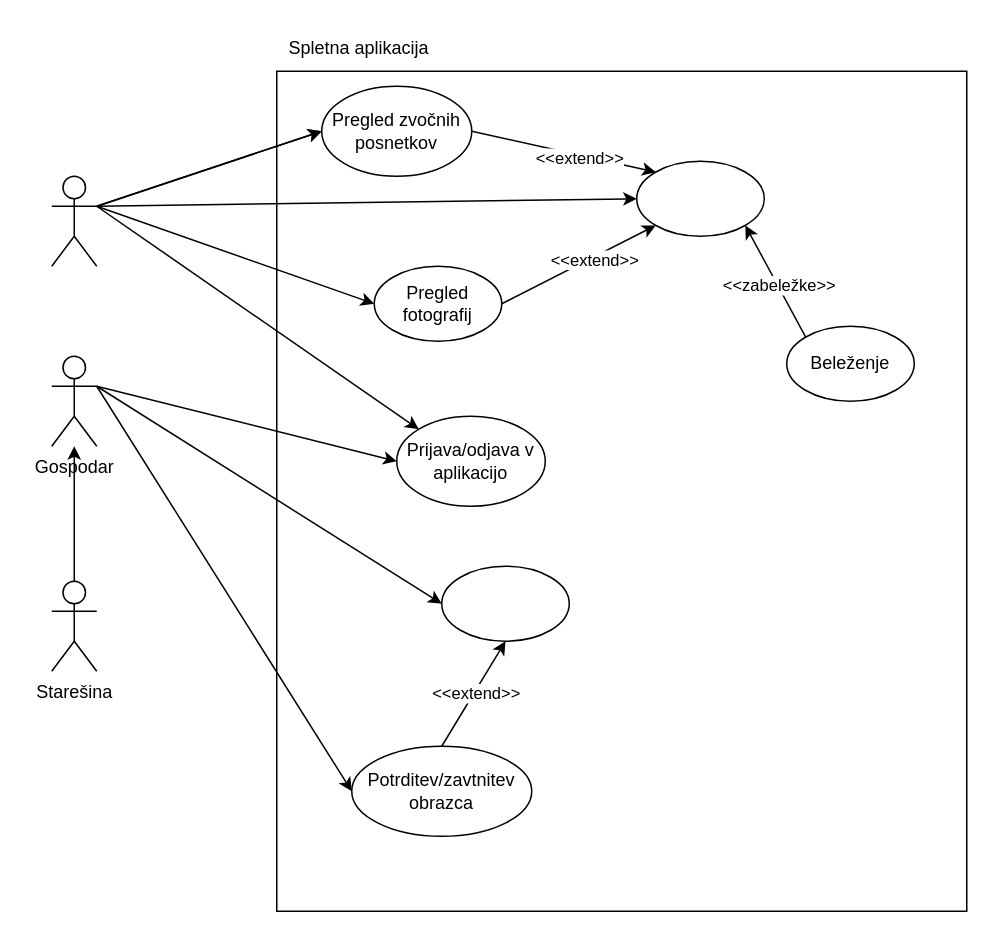
Some shapes in this 993 by 938 pixel diagram are drawn without their labels. Here are the shapes that lost their labels. From the top down, the centre of each, then its label:
At point 699,198: "Izpolnitev obrazca".
At point 73,220: "Lovski čuvaj".
At point 504,603: "Pregled obrazca".
